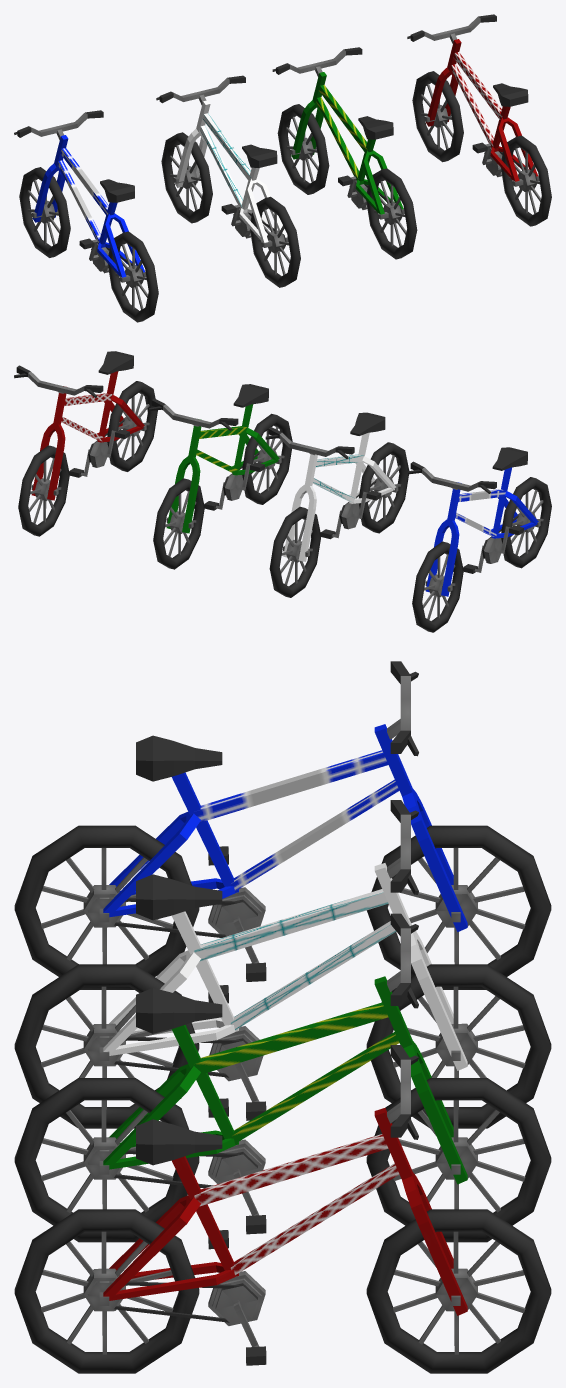
Rendered from bicicleta.fbx.
The picture shows the model from 3 angles, top to bottom: view 1: azimuth 30°, elevation 25°; view 2: azimuth 150°, elevation 25°; view 3: azimuth 270°, elevation 25°; orthographic projection. The views are drawn at different scales.
Visible parts, largest first — view 1: bike-verde, bike-branca, bike-azul, bike-vermelha; view 2: bike-azul, bike-branca, bike-vermelha, bike-verde; view 3: bike-vermelha, bike-azul, bike-verde, bike-branca.
Part boxes in pixels (bbox=[...]): bike-verde: bbox=[272, 47, 417, 259]; bike-branca: bbox=[156, 75, 300, 287]; bike-azul: bbox=[14, 110, 158, 322]; bike-vermelha: bbox=[407, 14, 551, 226]; bike-azul: bbox=[408, 447, 551, 632]; bike-branca: bbox=[265, 412, 409, 597]; bike-vermelha: bbox=[14, 351, 157, 536]; bike-verde: bbox=[149, 384, 292, 569]; bike-vermelha: bbox=[14, 1045, 551, 1373]; bike-azul: bbox=[14, 661, 551, 989]; bike-verde: bbox=[14, 913, 551, 1242]; bike-branca: bbox=[14, 800, 551, 1128].
Size of the model in its own units: 335 by 95.74 by 163.
